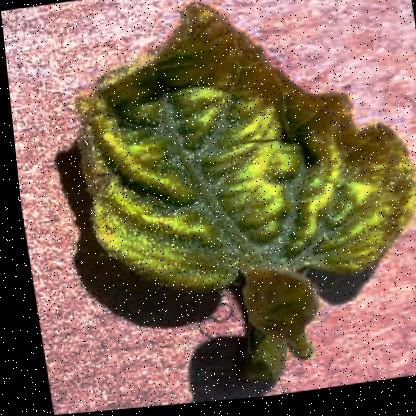Virus: (50, 0, 415, 405)
